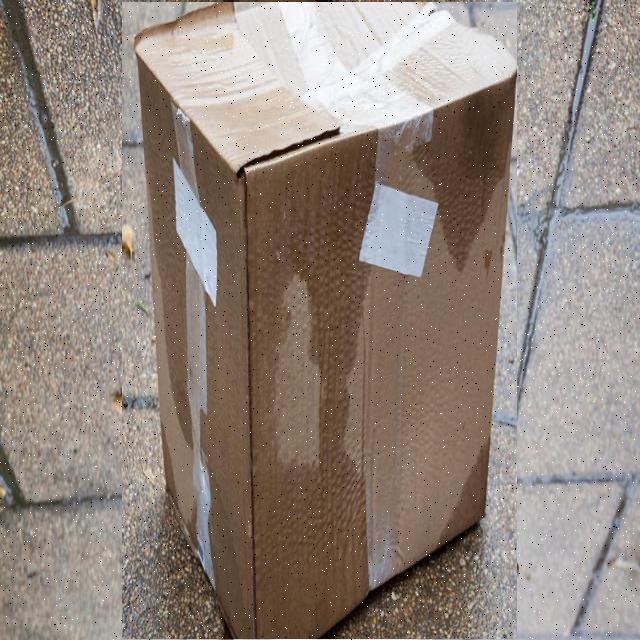defect: (122, 2, 517, 639)
